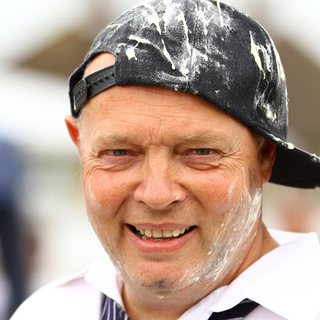eye: (176, 143, 227, 165), (96, 142, 144, 165)
